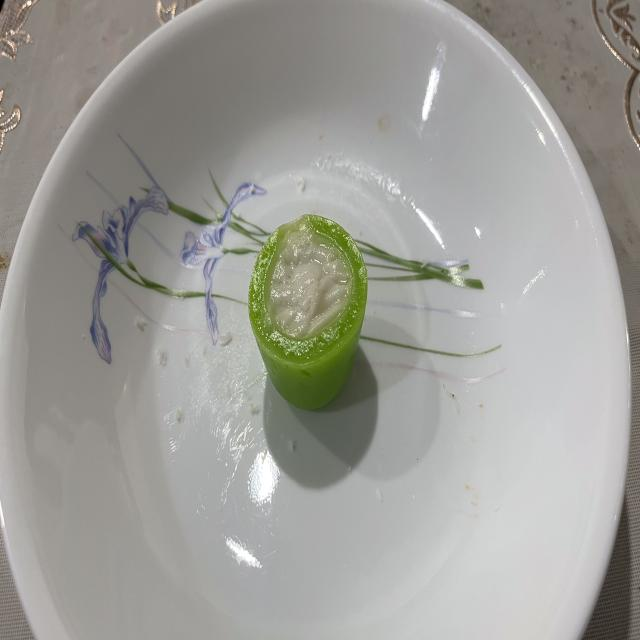nona-manis: (249, 216, 368, 409)
